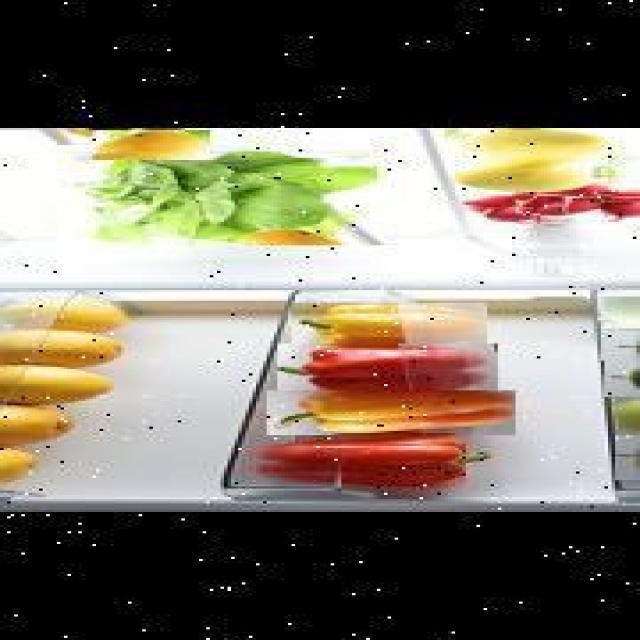apple: (439, 128, 603, 166), (448, 159, 608, 193), (597, 394, 640, 440), (601, 360, 640, 397), (597, 296, 640, 328), (597, 330, 640, 360)
bell_pepper: (247, 436, 496, 490), (263, 390, 512, 436), (272, 344, 492, 394), (288, 303, 484, 348)
lemon: (88, 131, 206, 161)
salad: (53, 144, 384, 246)
